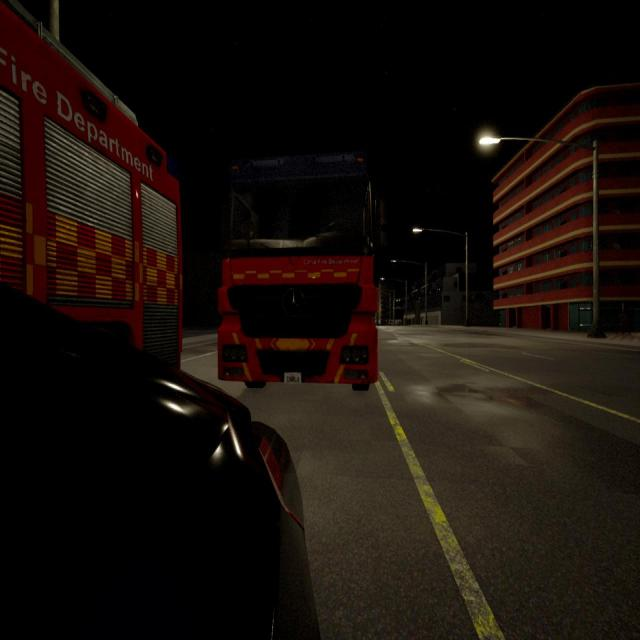Vehicle: (0, 290, 318, 640), (0, 0, 180, 365), (222, 151, 376, 387)
